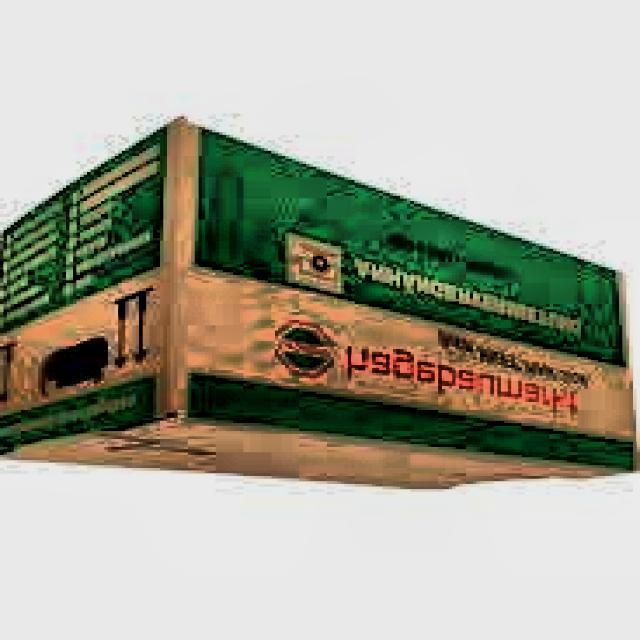cardboard: (0, 117, 640, 494)
